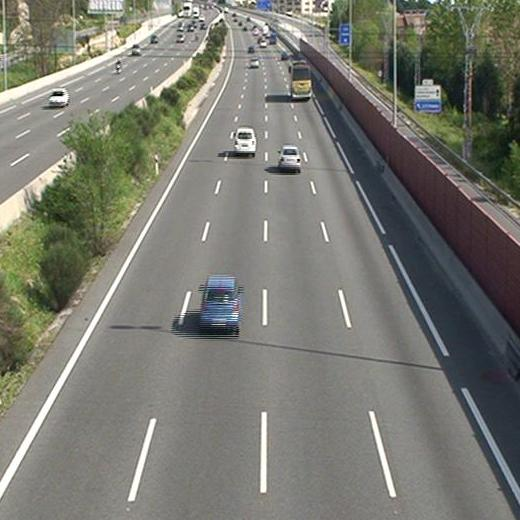bus: (289, 60, 311, 102)
car: (199, 276, 238, 331), (234, 127, 257, 155), (278, 145, 302, 169), (248, 57, 260, 67)
